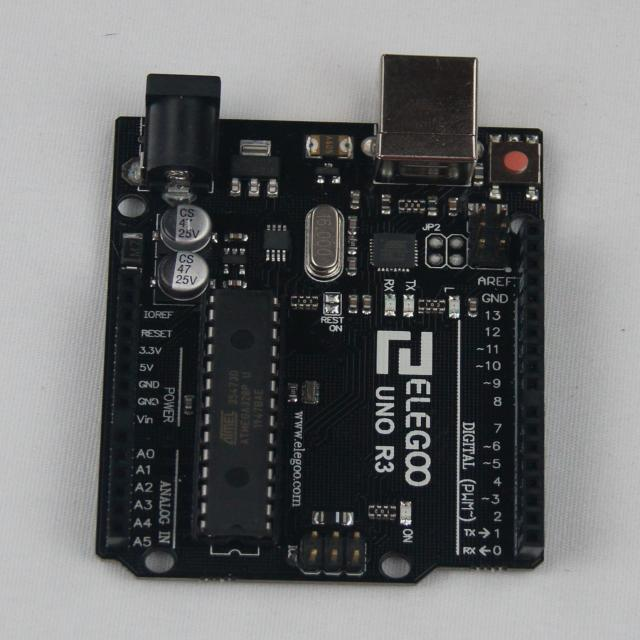Arduino Uno -Black-: (97, 56, 543, 583)
